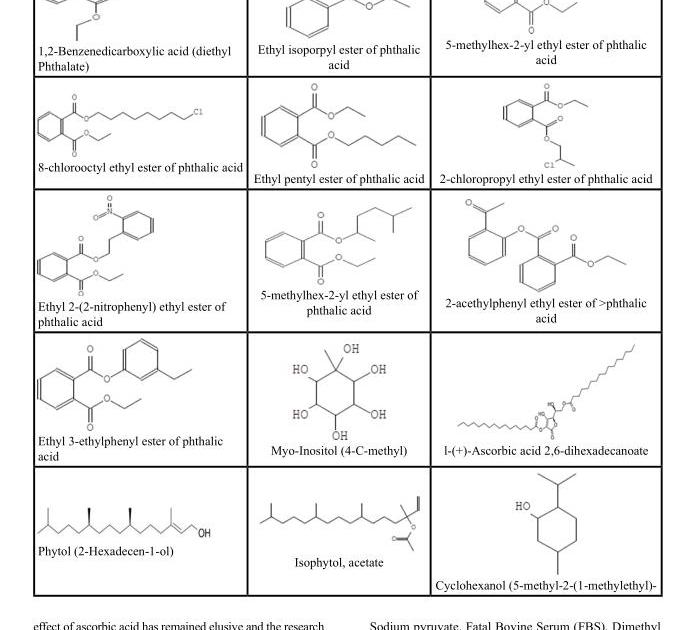table: (36, 36, 655, 591)
table column: (429, 36, 655, 591), (36, 36, 247, 591), (247, 36, 429, 591)
table row: (36, 235, 655, 380), (36, 380, 655, 502), (36, 115, 655, 235), (36, 502, 655, 591), (36, 36, 655, 115)
